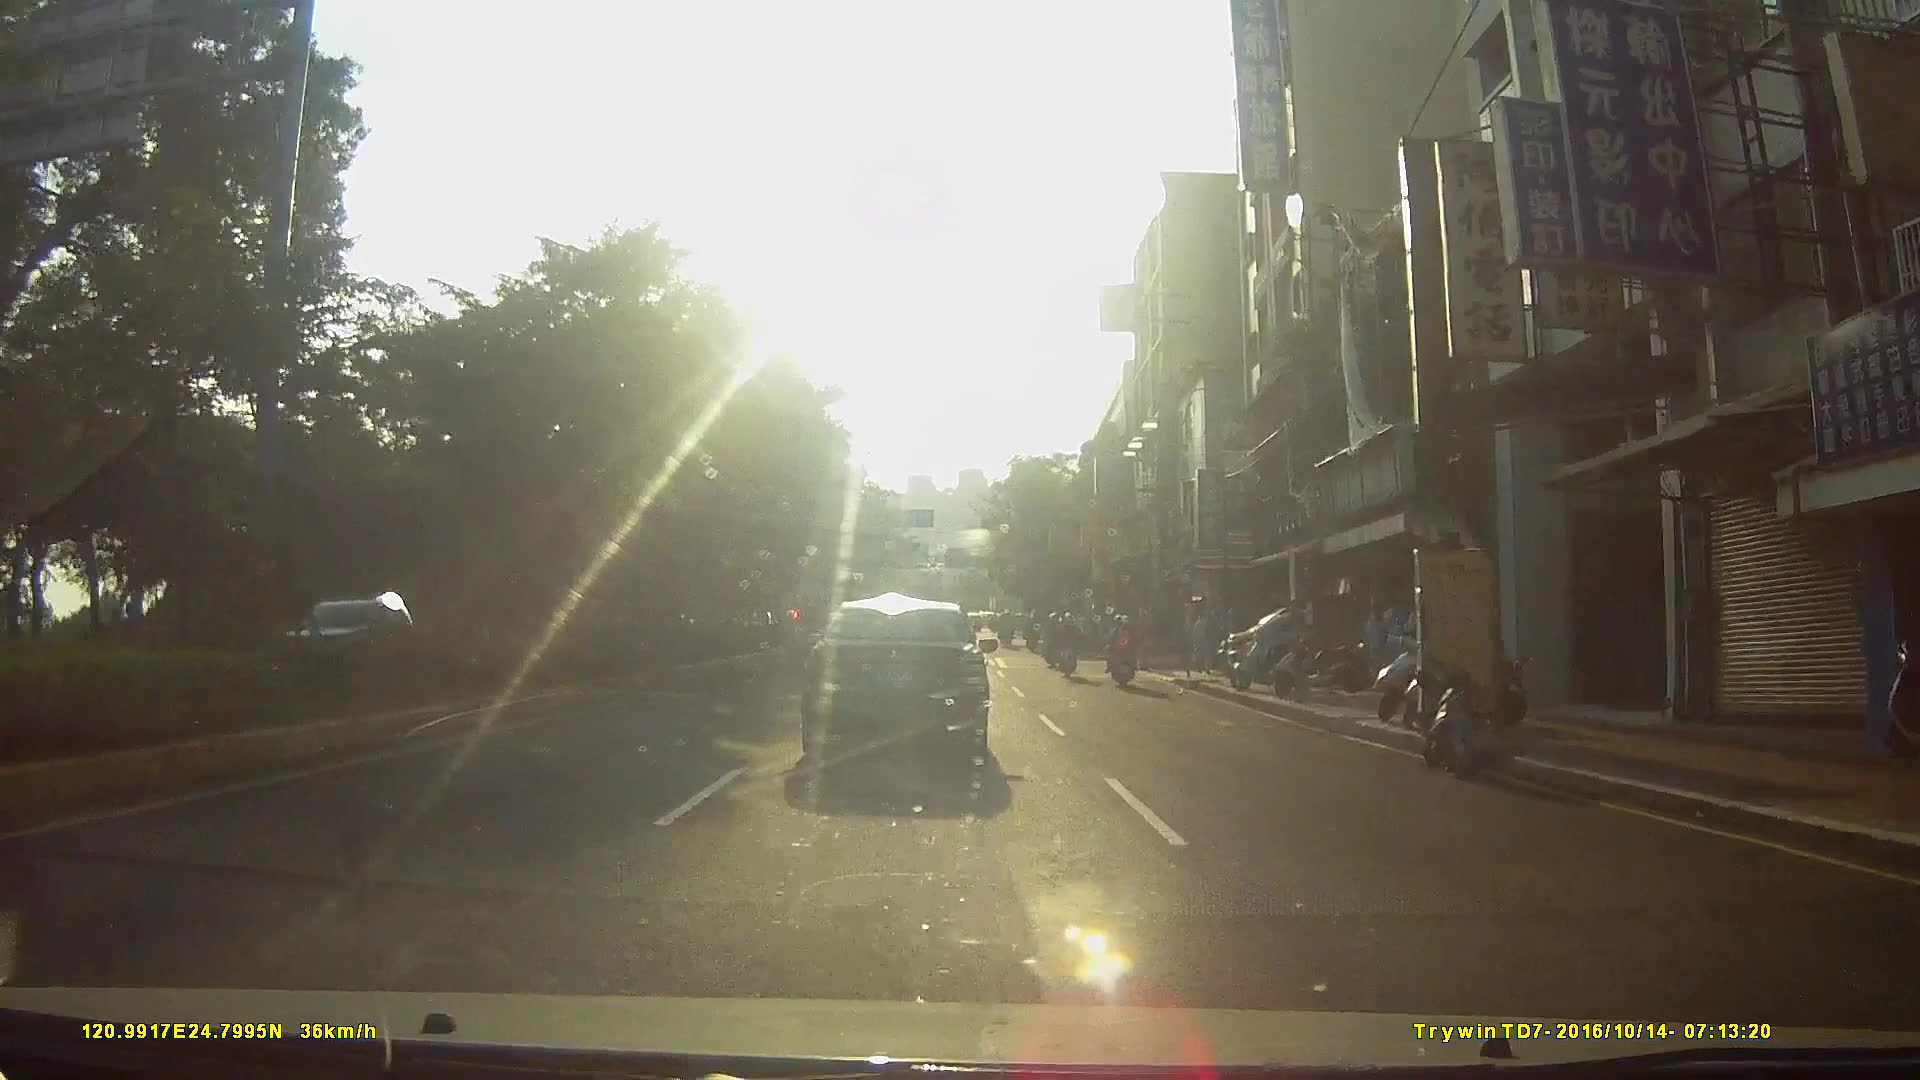rider: (1106, 612, 1138, 690), (1055, 612, 1081, 680), (1042, 612, 1065, 671)
vehicle: (799, 597, 1014, 788)
